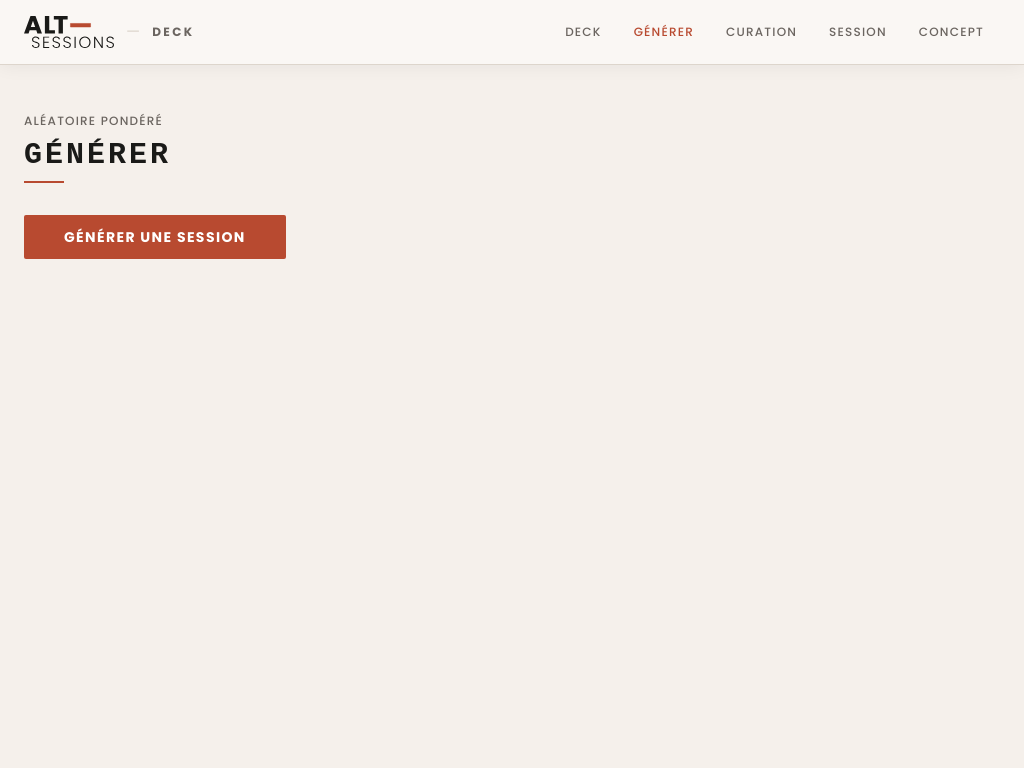
Generate page › generates a session on button click
The width and height of the screenshot is (1024, 768).
Click the button "GÉNÉRER UNE SESSION".
click(155, 237)  # box [24, 215, 286, 259]
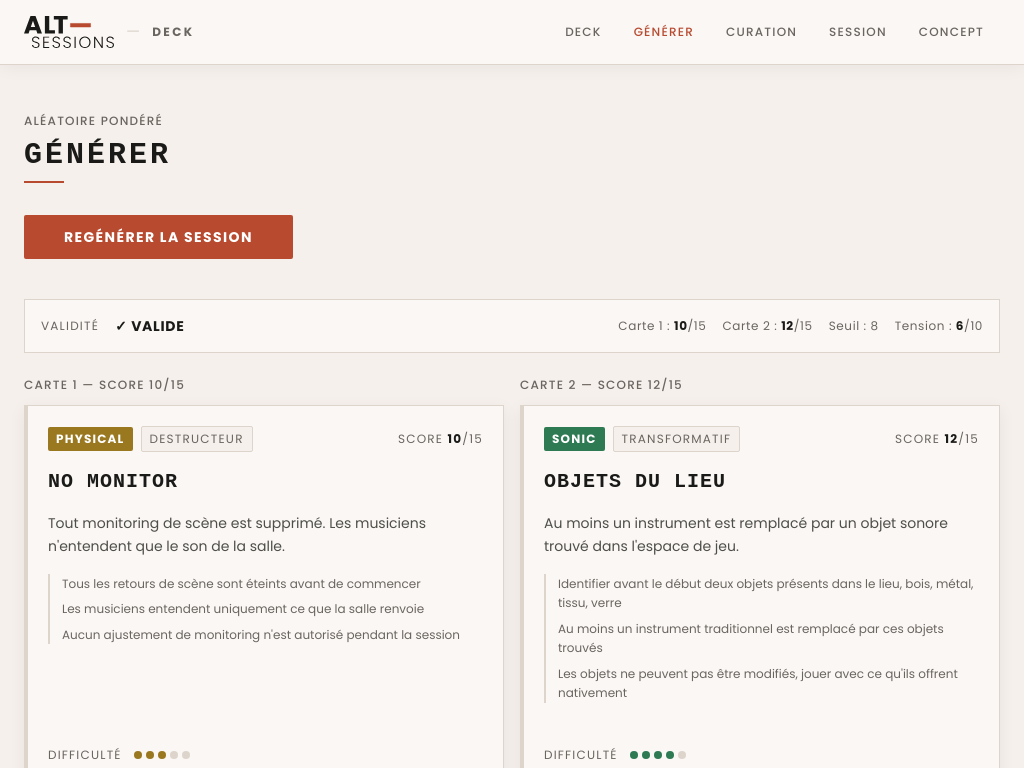
expect the text "Carte 2" is shown: met, box [23, 113, 764, 136]
expect the text "VALIDE" is shown: met, box [131, 316, 184, 336]
